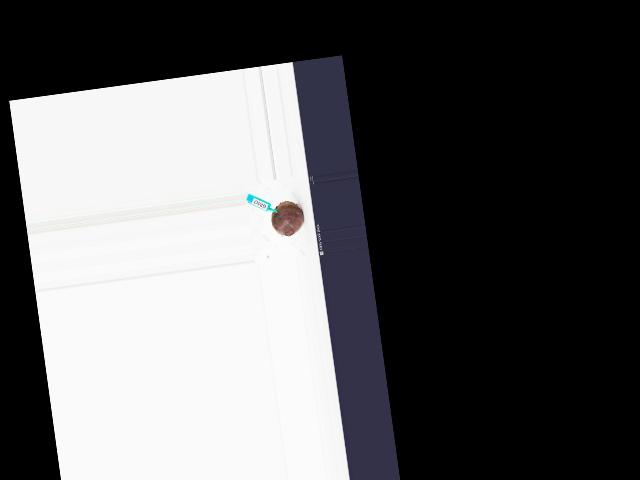beet: (269, 199, 306, 237)
